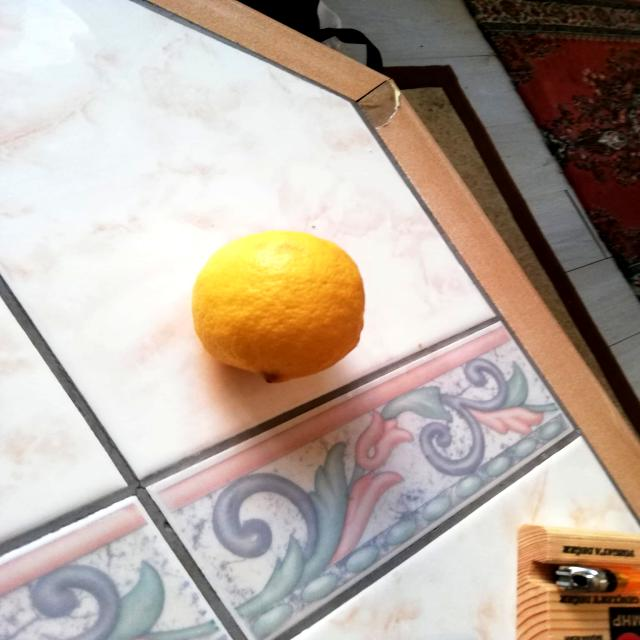lemon: (186, 228, 374, 391)
